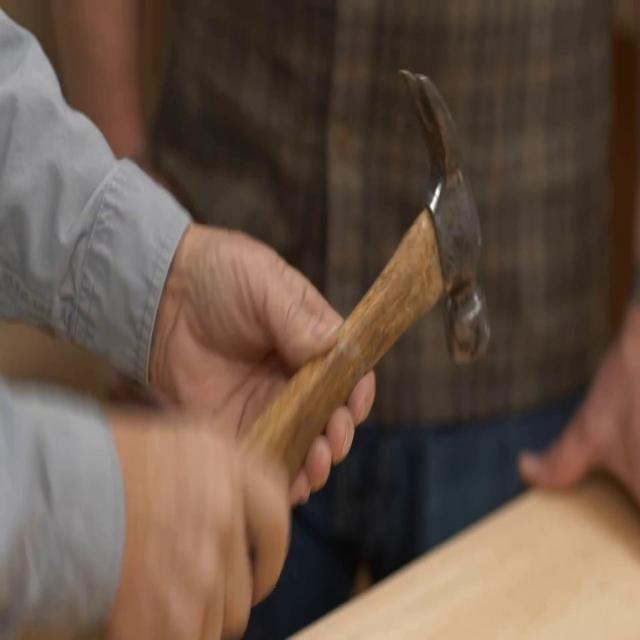hammer: (231, 62, 491, 495)
